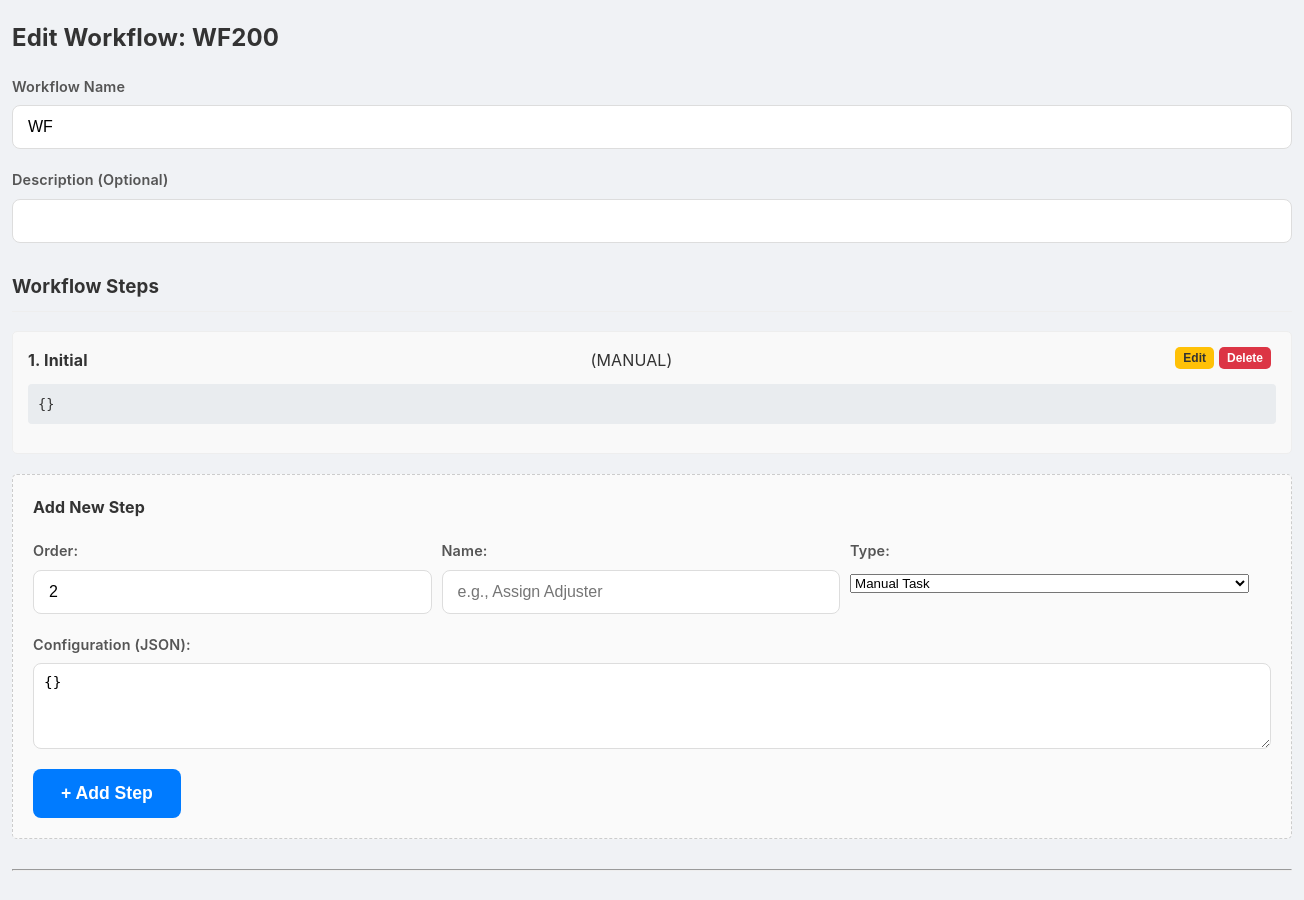
it: WorkflowEditor › deletes a step successfully
The width and height of the screenshot is (1304, 900).
Step 1. Click the button "Delete" → click(1245, 358), box [1219,347,1271,369]
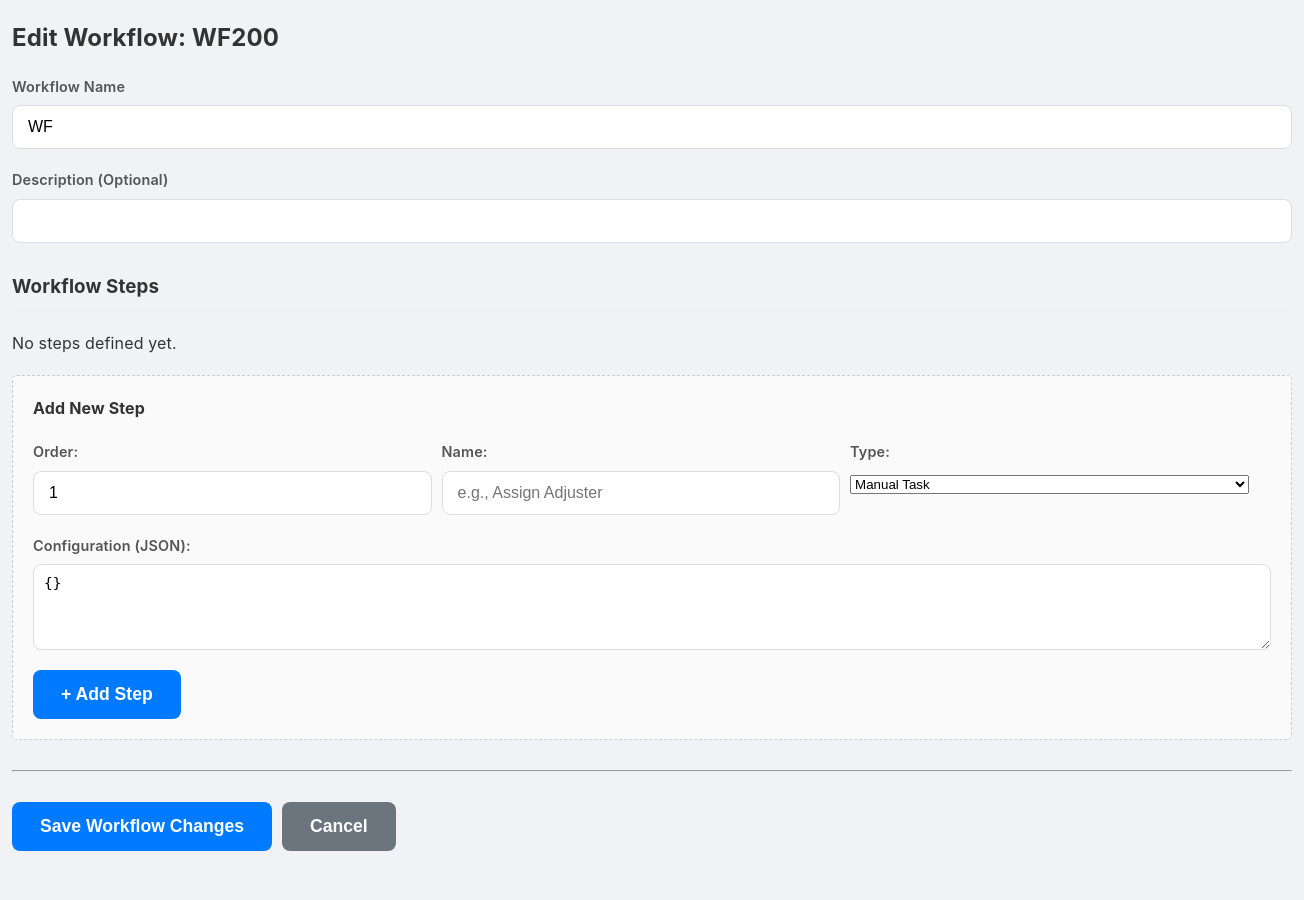
Check: the text "1. Initial" is gone
